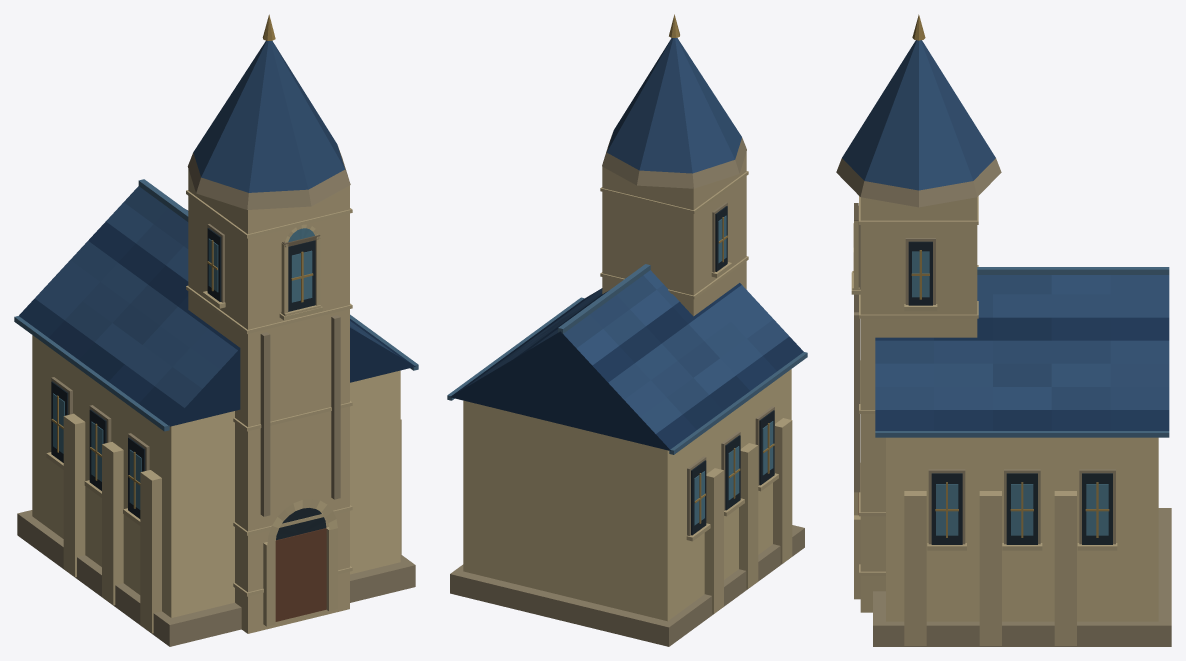
The model's file is falan_chapel.glb.
3 renders of one model, left to right at view 1: azimuth 30°, elevation 25°; view 2: azimuth 150°, elevation 25°; view 3: azimuth 270°, elevation 25°, orthographic. The views are drawn at different scales.
Visible parts, largest first — view 1: falan_chapel; view 2: falan_chapel; view 3: falan_chapel.
Part boxes in pixels (x1,y1,x2,y2): falan_chapel: [14, 14, 418, 646]; falan_chapel: [447, 14, 807, 646]; falan_chapel: [836, 14, 1171, 646].
Bounding box in the file's own units: 15.31 × 33.7 × 17.85.
